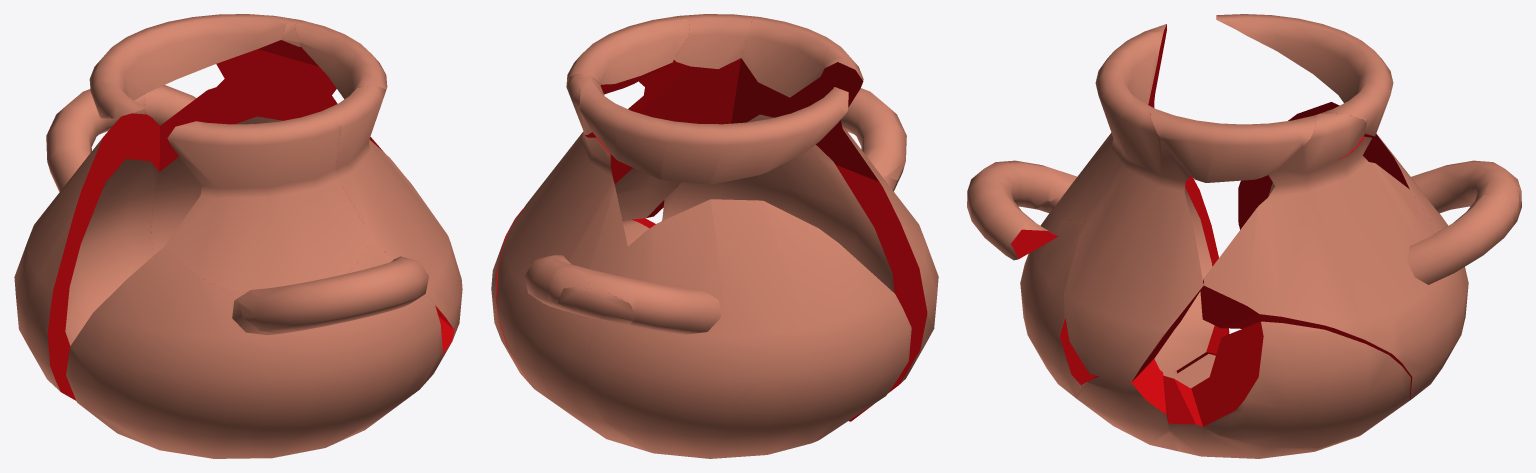
File: ClayPot_02_destroyed 1.fbx
3 views of the same model, side by side, from view 1: azimuth 30°, elevation 25°; view 2: azimuth 150°, elevation 25°; view 3: azimuth 270°, elevation 25° (orthographic).
Parts seen in each view (by area): view 1: ClayPot_02_cell.015, ClayPot_02_cell.013, ClayPot_02_cell.004, ClayPot_02_cell.001, ClayPot_02_cell.014, ClayPot_02_cell.002, ClayPot_02_cell.017, ClayPot_02_cell.005, ClayPot_02_cell.008, ClayPot_02_cell.011; view 2: ClayPot_02_cell.004, ClayPot_02_cell.001, ClayPot_02_cell.015, ClayPot_02_cell.002, ClayPot_02_cell.013, ClayPot_02_cell.014, ClayPot_02_cell.005, ClayPot_02_cell.017, ClayPot_02_cell.006, ClayPot_02_cell.007, ClayPot_02_cell.008, ClayPot_02_cell.011; view 3: ClayPot_02_cell.001, ClayPot_02_cell.014, ClayPot_02_cell.007, ClayPot_02_cell.015, ClayPot_02_cell.002, ClayPot_02_cell.005, ClayPot_02_cell.004, ClayPot_02_cell.017, ClayPot_02_cell.013, ClayPot_02_cell.011, ClayPot_02_cell.010, ClayPot_02_cell.008.
Boxes of the visible parts, x1=… form: ClayPot_02_cell.015: x1=66, y1=240, x2=442, y2=458; ClayPot_02_cell.013: x1=163, y1=110, x2=372, y2=292; ClayPot_02_cell.004: x1=14, y1=89, x2=159, y2=400; ClayPot_02_cell.001: x1=144, y1=49, x2=411, y2=255; ClayPot_02_cell.014: x1=324, y1=85, x2=462, y2=329; ClayPot_02_cell.002: x1=89, y1=14, x2=286, y2=118; ClayPot_02_cell.017: x1=238, y1=256, x2=428, y2=333; ClayPot_02_cell.005: x1=294, y1=21, x2=387, y2=99; ClayPot_02_cell.008: x1=258, y1=15, x2=318, y2=66; ClayPot_02_cell.011: x1=339, y1=311, x2=460, y2=441; ClayPot_02_cell.004: x1=548, y1=199, x2=911, y2=458; ClayPot_02_cell.001: x1=496, y1=131, x2=646, y2=451; ClayPot_02_cell.015: x1=662, y1=151, x2=938, y2=421; ClayPot_02_cell.002: x1=579, y1=78, x2=848, y2=184; ClayPot_02_cell.013: x1=731, y1=16, x2=884, y2=181; ClayPot_02_cell.014: x1=610, y1=14, x2=755, y2=219; ClayPot_02_cell.005: x1=567, y1=17, x2=689, y2=94; ClayPot_02_cell.017: x1=840, y1=88, x2=906, y2=179; ClayPot_02_cell.006: x1=557, y1=286, x2=634, y2=321; ClayPot_02_cell.007: x1=491, y1=209, x2=573, y2=416; ClayPot_02_cell.008: x1=566, y1=74, x2=601, y2=134; ClayPot_02_cell.011: x1=622, y1=218, x2=655, y2=246; ClayPot_02_cell.001: x1=1200, y1=136, x2=1513, y2=402; ClayPot_02_cell.014: x1=1064, y1=83, x2=1203, y2=382; ClayPot_02_cell.007: x1=1191, y1=321, x2=1410, y2=447; ClayPot_02_cell.015: x1=1020, y1=176, x2=1229, y2=397; ClayPot_02_cell.002: x1=1216, y1=14, x2=1393, y2=136; ClayPot_02_cell.005: x1=1150, y1=106, x2=1316, y2=182; ClayPot_02_cell.004: x1=1238, y1=102, x2=1518, y2=322; ClayPot_02_cell.017: x1=967, y1=160, x2=1076, y2=260; ClayPot_02_cell.013: x1=1058, y1=24, x2=1166, y2=220; ClayPot_02_cell.011: x1=1076, y1=358, x2=1177, y2=451; ClayPot_02_cell.010: x1=1163, y1=354, x2=1362, y2=458; ClayPot_02_cell.008: x1=1277, y1=113, x2=1365, y2=172.
Bounding box in the file's own units: 35.36 × 28.35 × 43.9.
